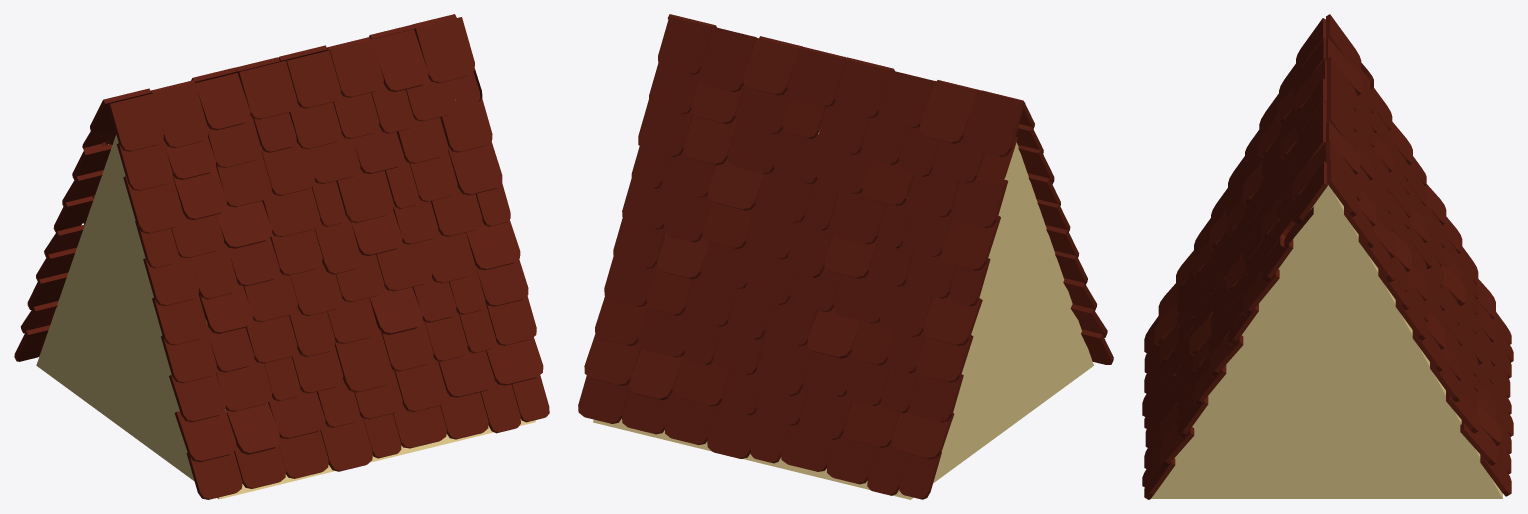
Rendered from roof.fbx.
3 renders of one model, left to right at view 1: azimuth 30°, elevation 25°; view 2: azimuth 150°, elevation 25°; view 3: azimuth 270°, elevation 25°, orthographic. The views are drawn at different scales.
Parts seen in each view (by area): view 1: Cube.287; view 2: Cube.287; view 3: Cube.287.
Boxes of the visible parts, x1=… form: Cube.287: x1=14, y1=14, x2=549, y2=499; Cube.287: x1=578, y1=14, x2=1113, y2=499; Cube.287: x1=1142, y1=14, x2=1513, y2=499.
Size of the model in its own units: 31.25 by 28.02 by 28.97.
